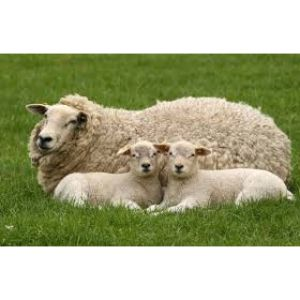sheep: (165, 140, 294, 208), (22, 91, 114, 167), (116, 138, 164, 206)
